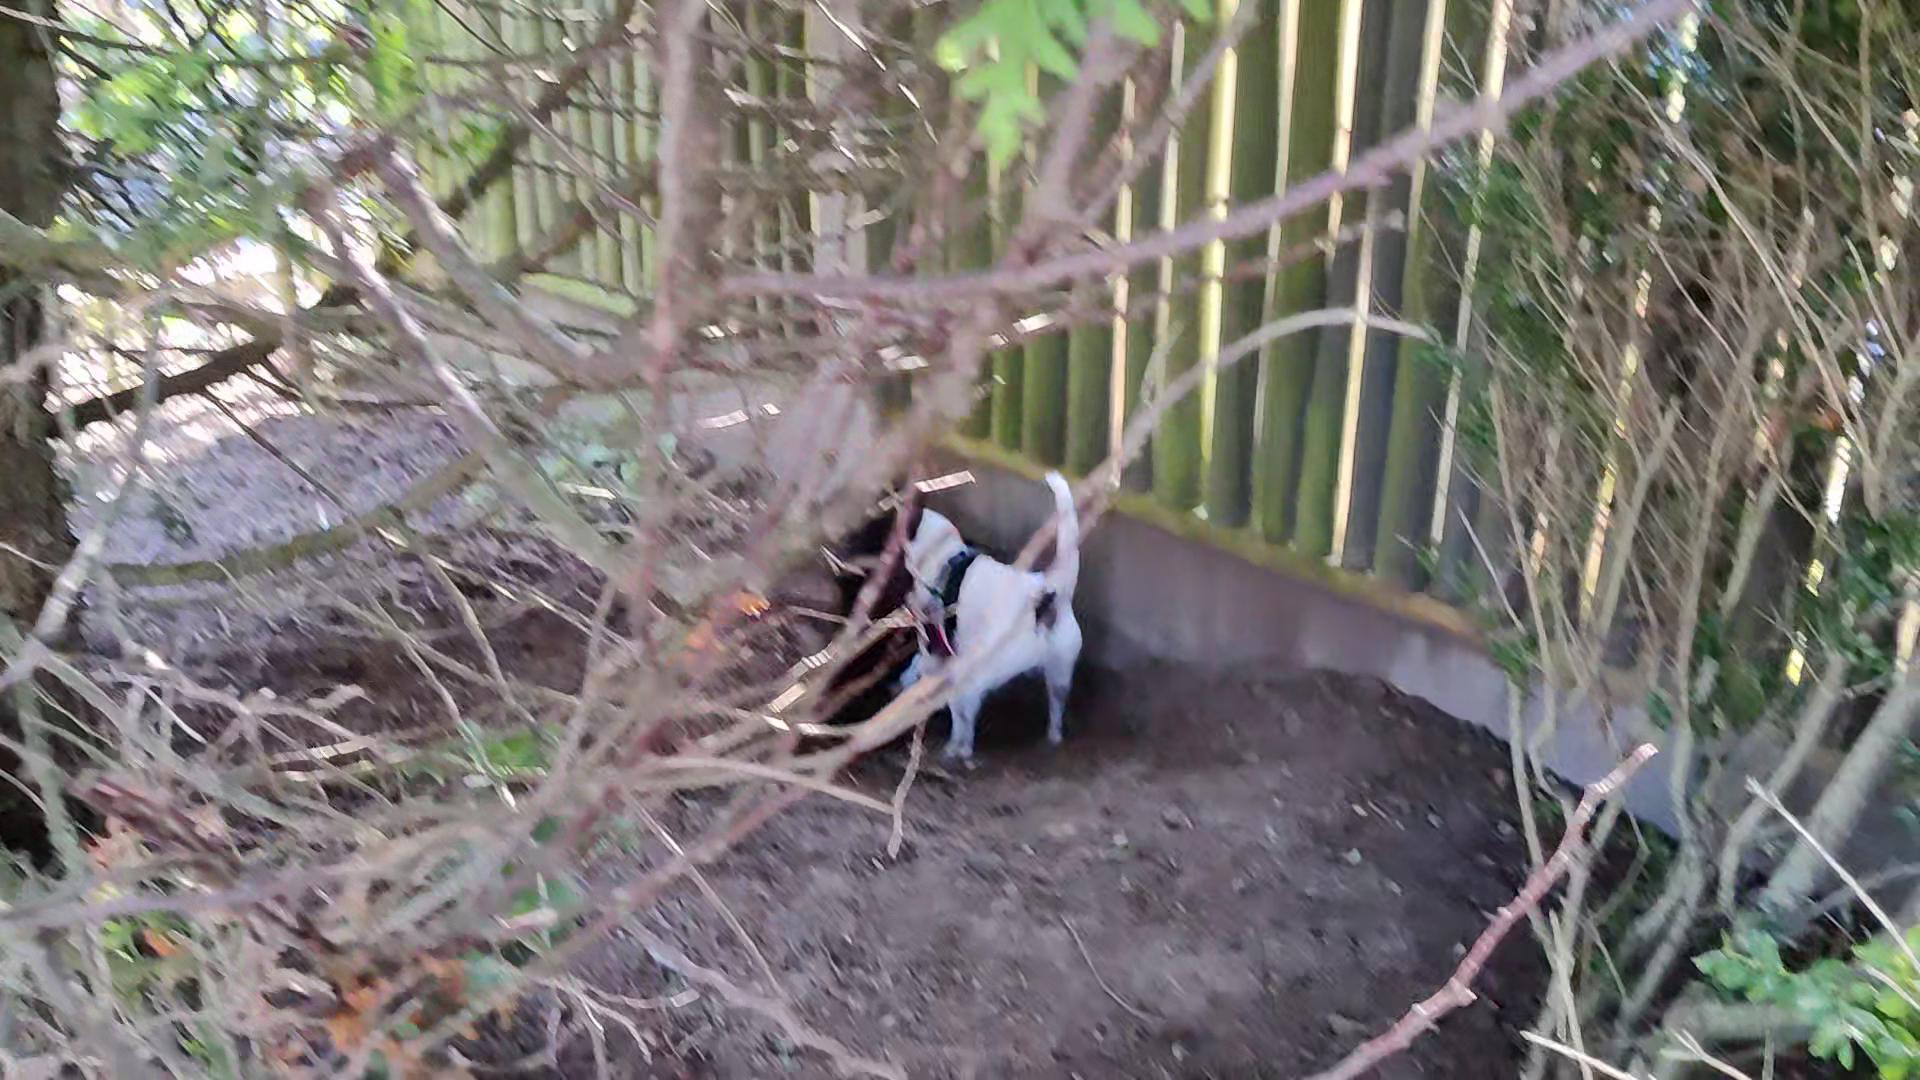Dog: (865, 439, 1116, 771)
